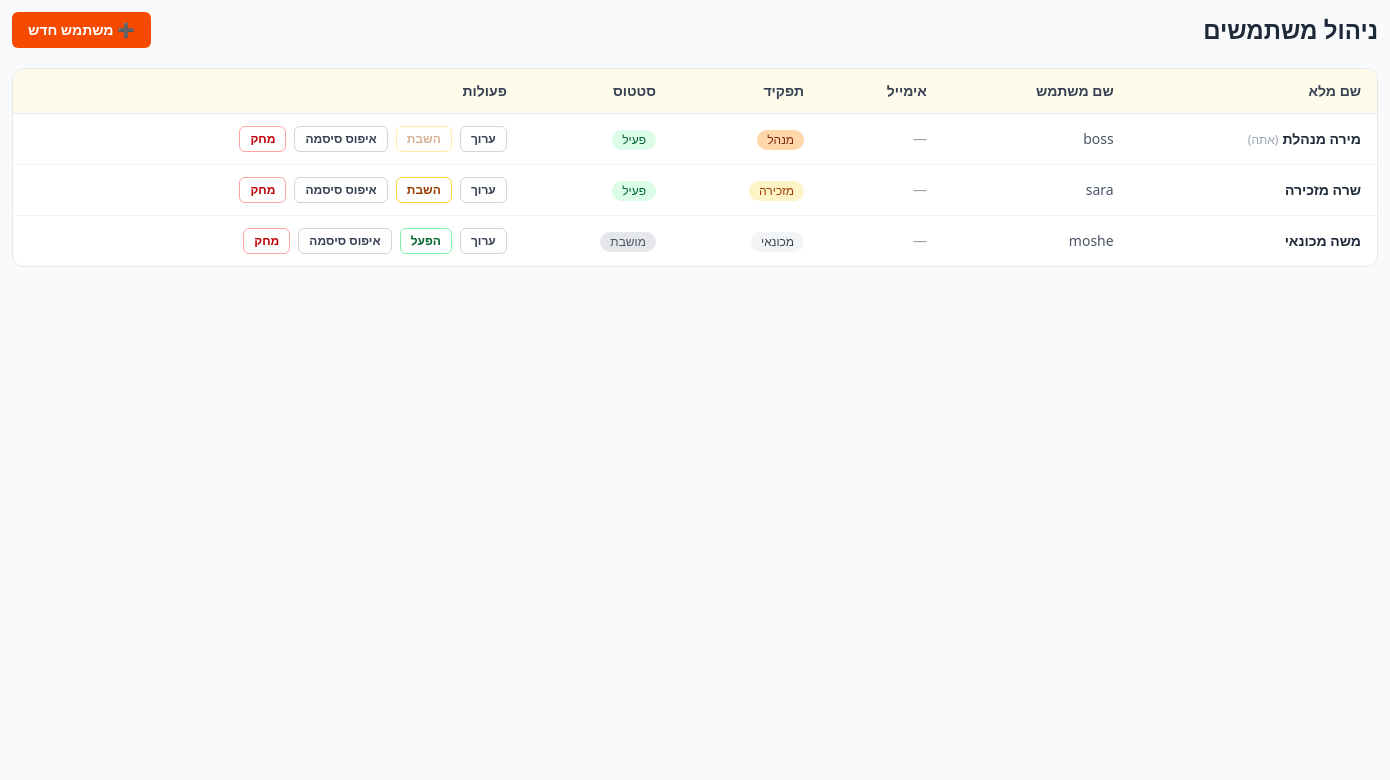
Test: UsersPage — create user › renders the create form and validates before submit
The width and height of the screenshot is (1390, 780).
Expected: the table named "טבלת משתמשים" is shown, [13, 69, 1377, 266]
Click the button "➕ משתמש חדש".
click(81, 30)  # box [12, 12, 151, 48]
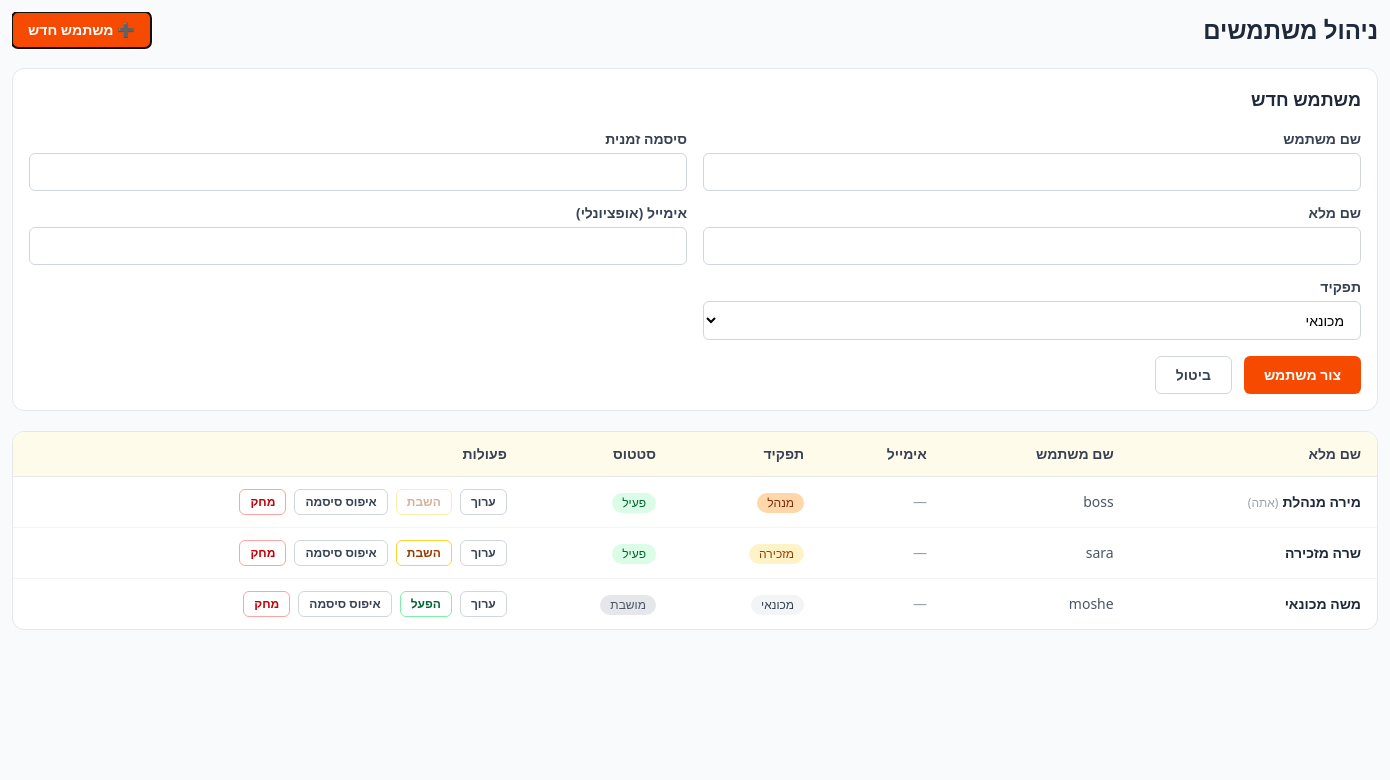
Click the button "צור משתמש".
click(1302, 375)  # box [1244, 356, 1361, 394]
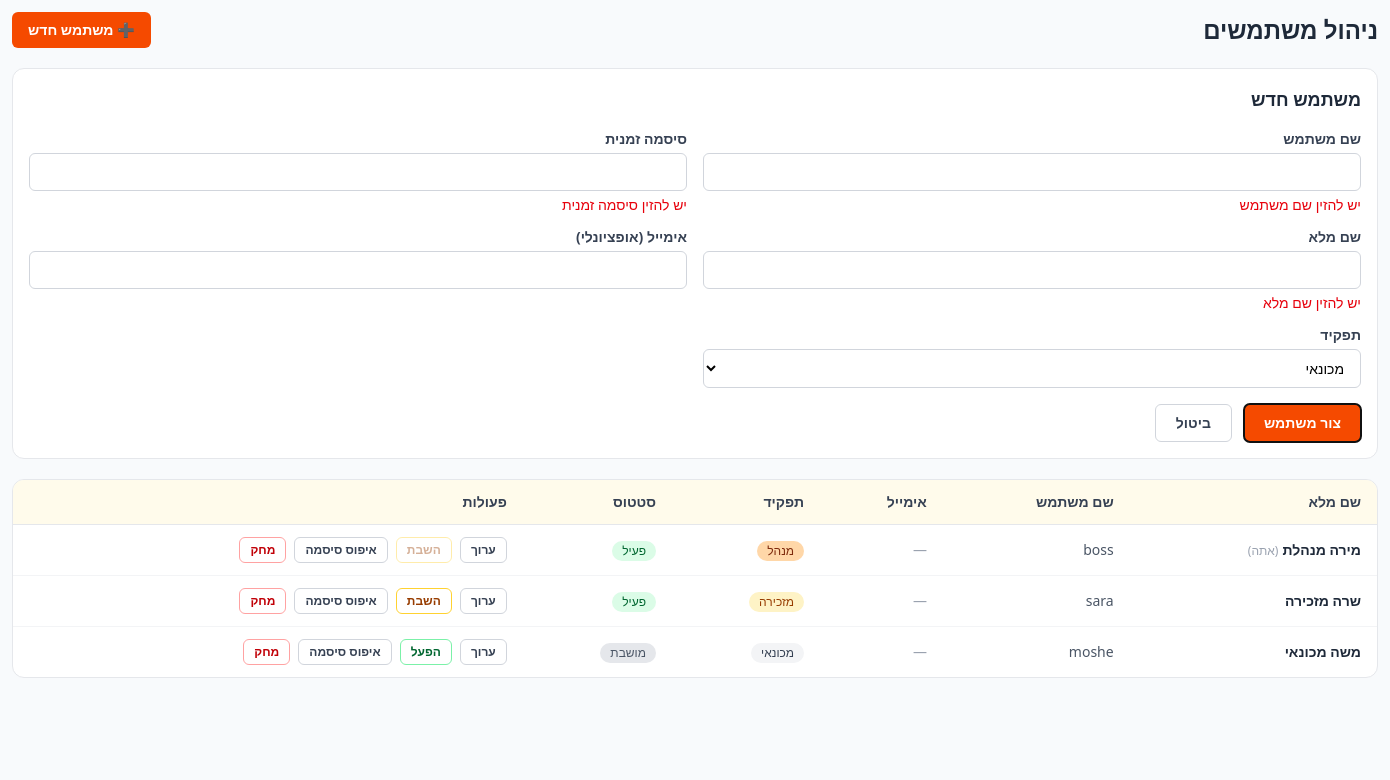
Now the text "יש להזין שם משתמש" is shown, box [1240, 195, 1361, 214]
Now the text "יש להזין סיסמה זמנית" is shown, box [562, 195, 687, 214]
Now the text "יש להזין שם מלא" is shown, box [1263, 293, 1361, 312]
